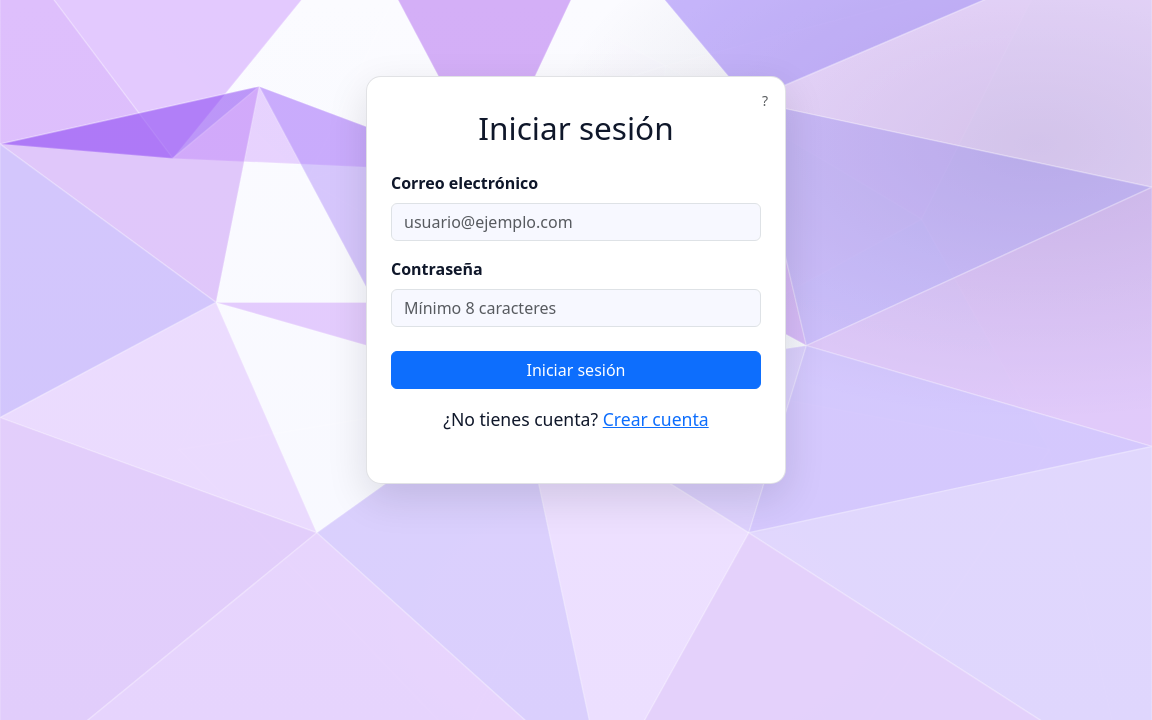
Login Component - Microservicios › muestra mensaje de error cuando hay un error de conexión
Type "test@test.com" into the field labelled "Correo electrónico" at {"x": 576, "y": 222}, box left=391, top=203, right=761, bottom=241
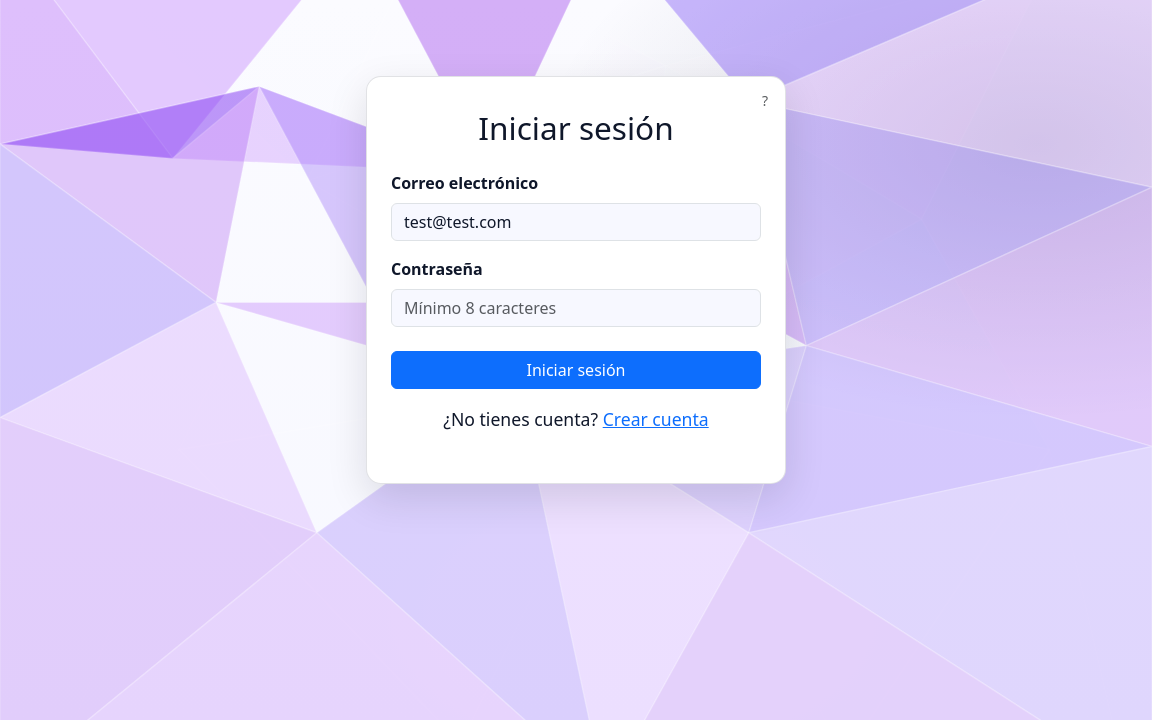
Type "password123" into the password field labelled "Contraseña" at {"x": 576, "y": 308}, box left=391, top=289, right=761, bottom=327
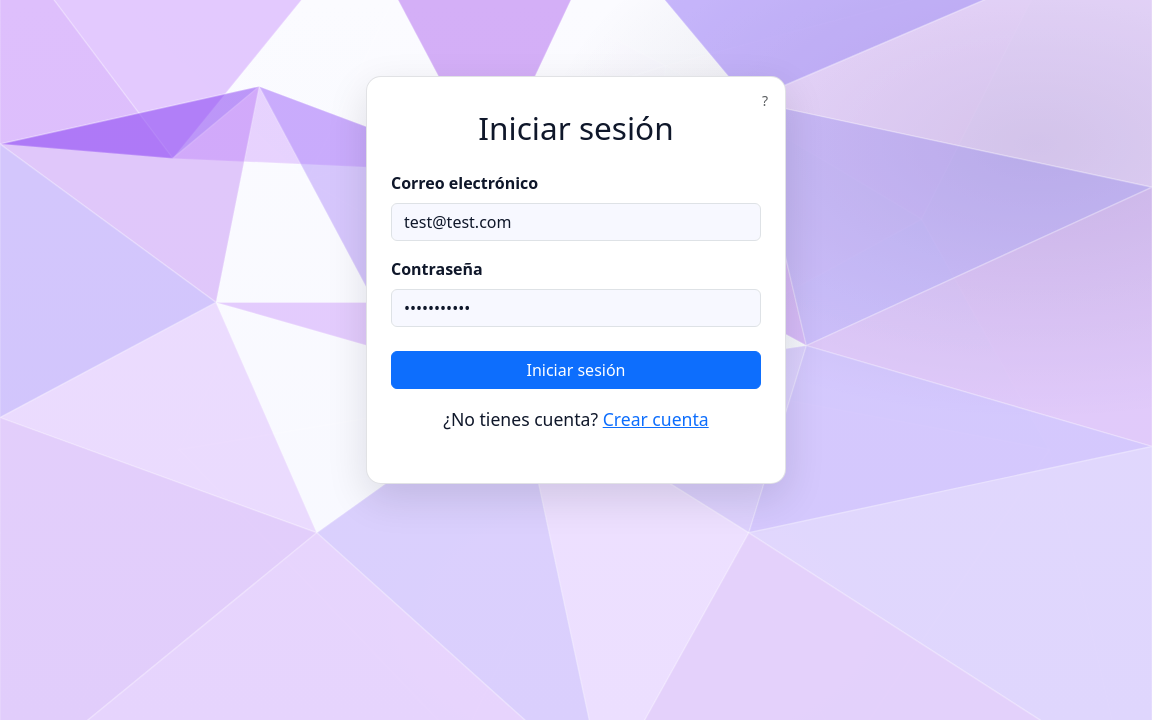
Click the button "Iniciar sesión" at {"x": 576, "y": 370}, box left=391, top=351, right=761, bottom=389
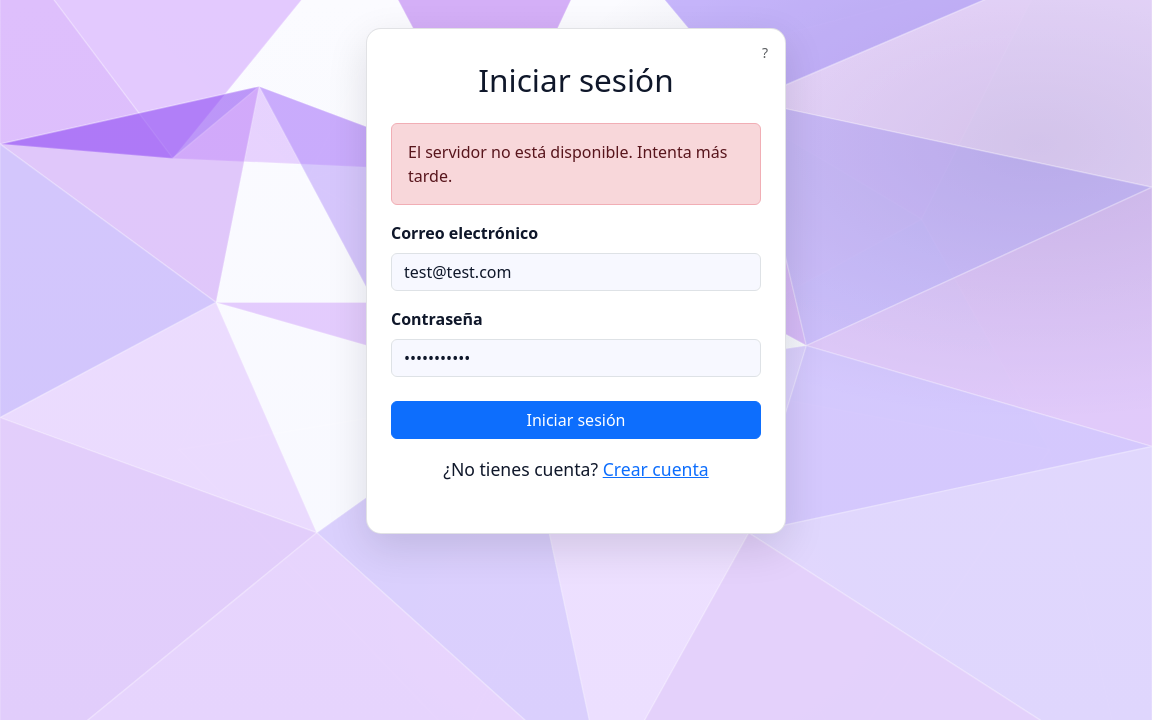
Expected: the text "El servidor no está disponible. Intenta más tarde." is shown, left=391, top=123, right=761, bottom=205
